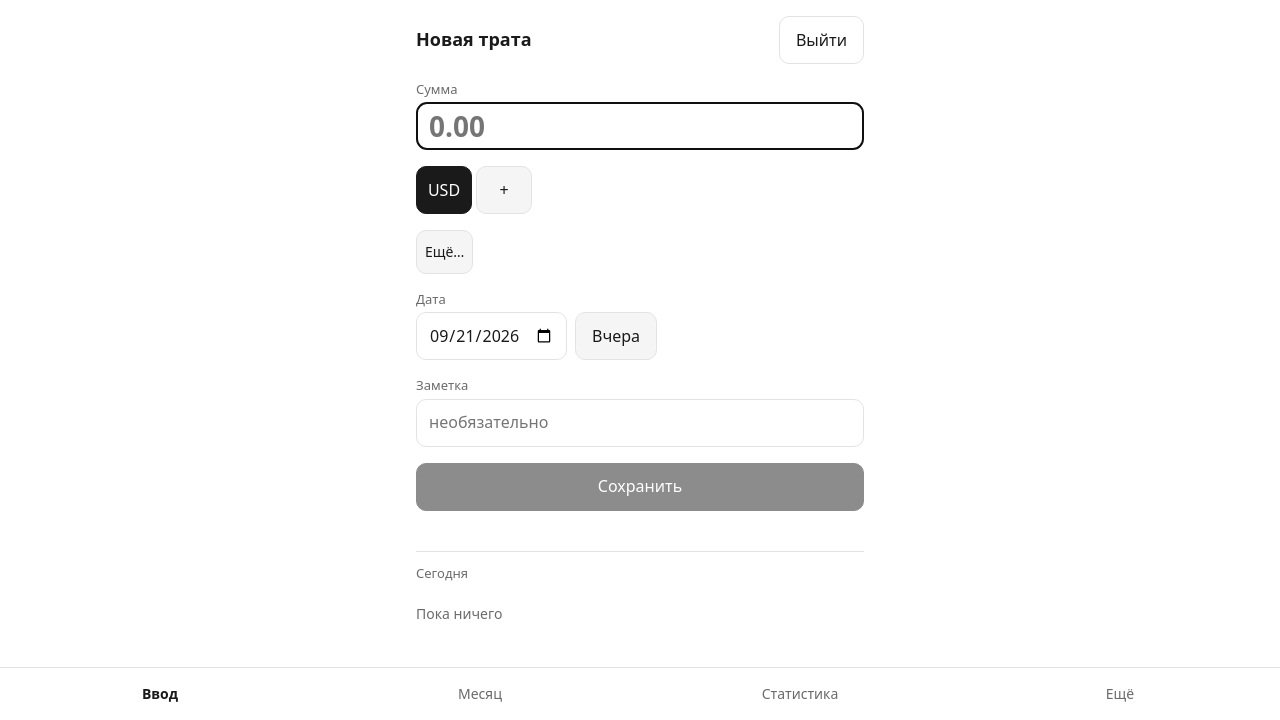
EntryScreen › при ошибке показывает текст и не теряет введённое
Type "12" into the field labelled "Сумма" at (640, 126), box [416,102,864,150]
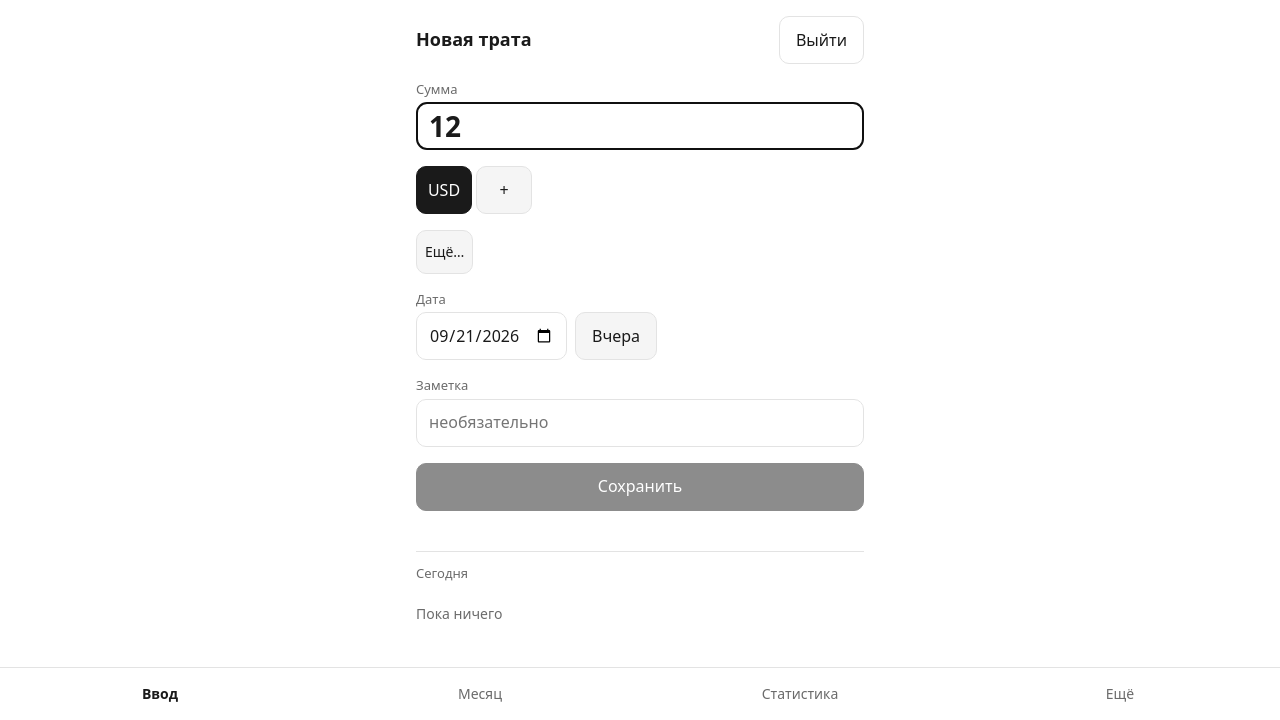
Click the button with aria-label "Все категории" at (445, 252), box [416,230,474,274]
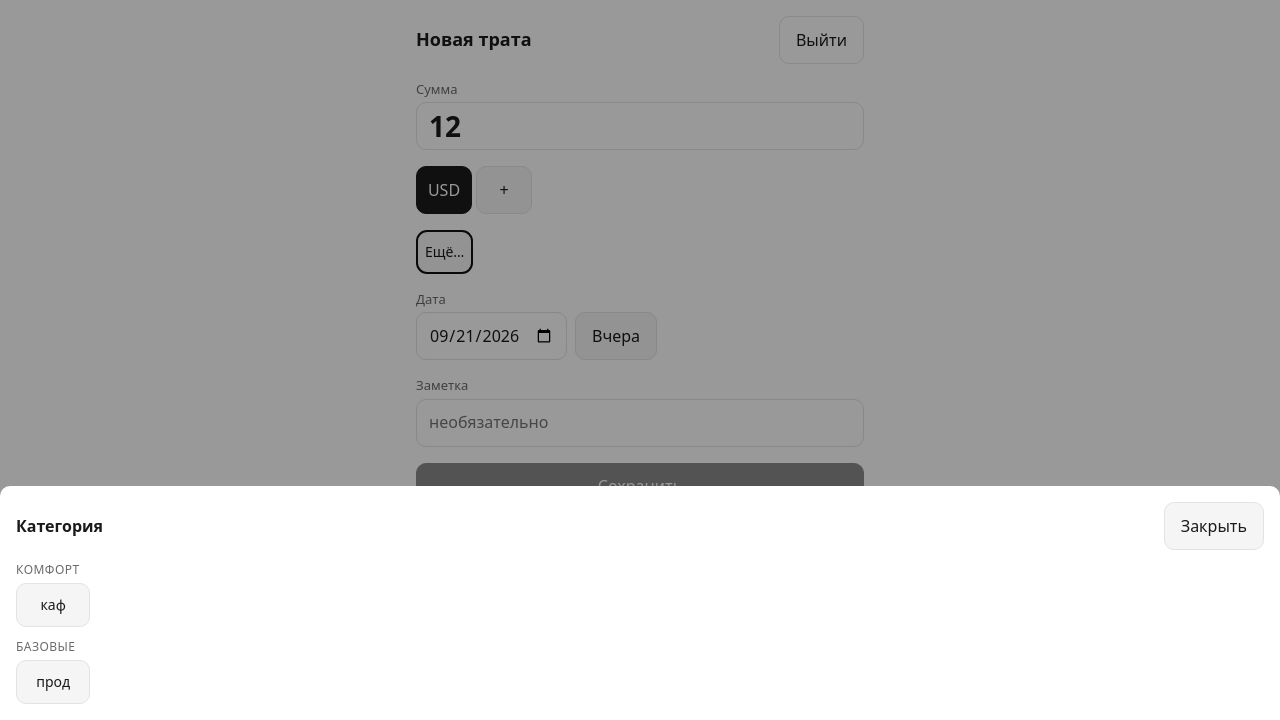
Click the radio button labelled "прод" at (53, 682), box [16,660,90,704]
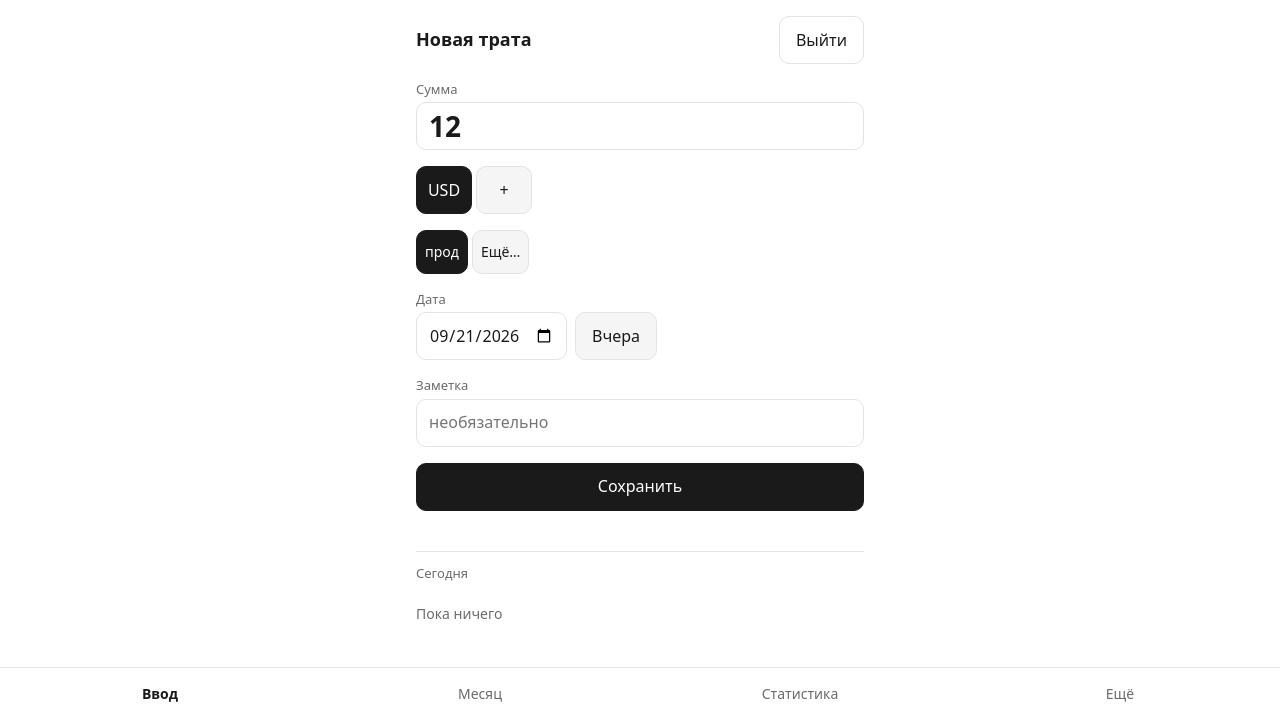
Click the button "Сохранить" at (640, 487), box [416,463,864,511]
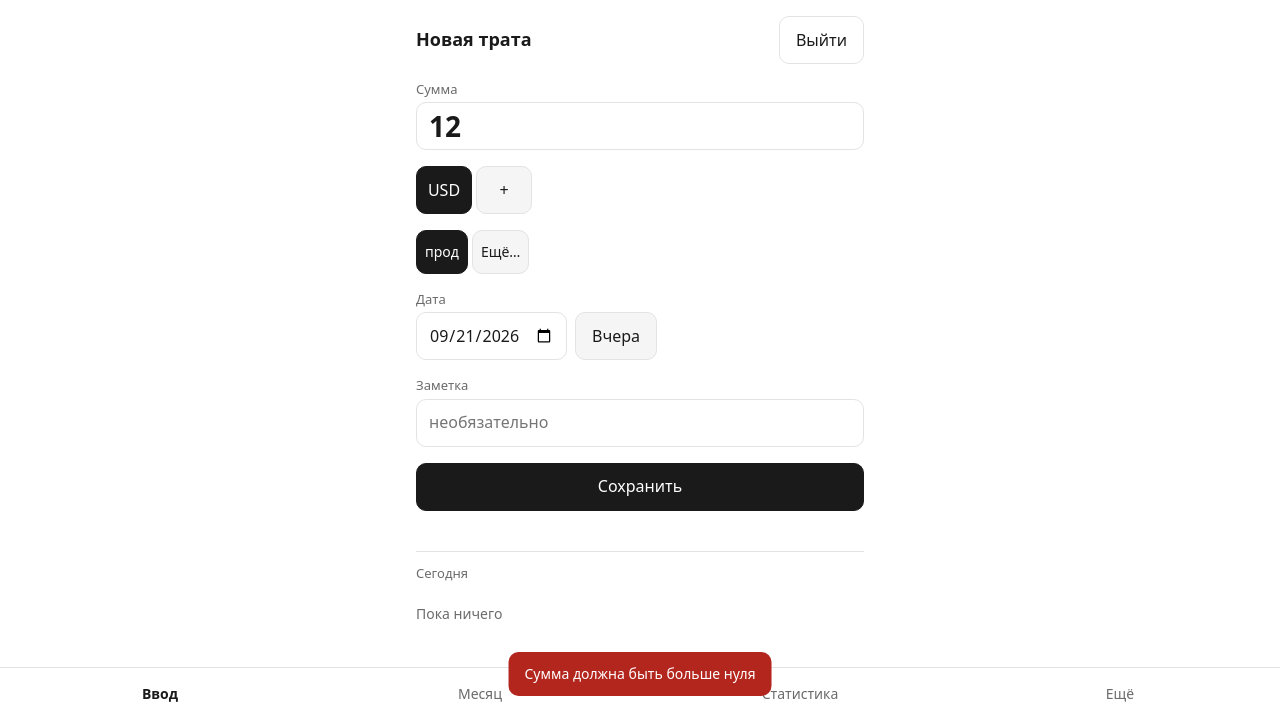
Check: the button "Сохранить" is enabled, box [416,463,864,511]
Check: the message reads "Сумма должна быть больше нуля", box [524,664,756,683]
